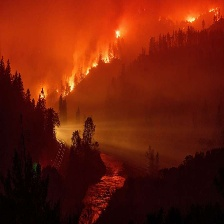fire: (61, 56, 105, 96), (37, 83, 50, 104), (110, 28, 125, 44), (183, 13, 197, 28)
smoke: (4, 3, 94, 57)
